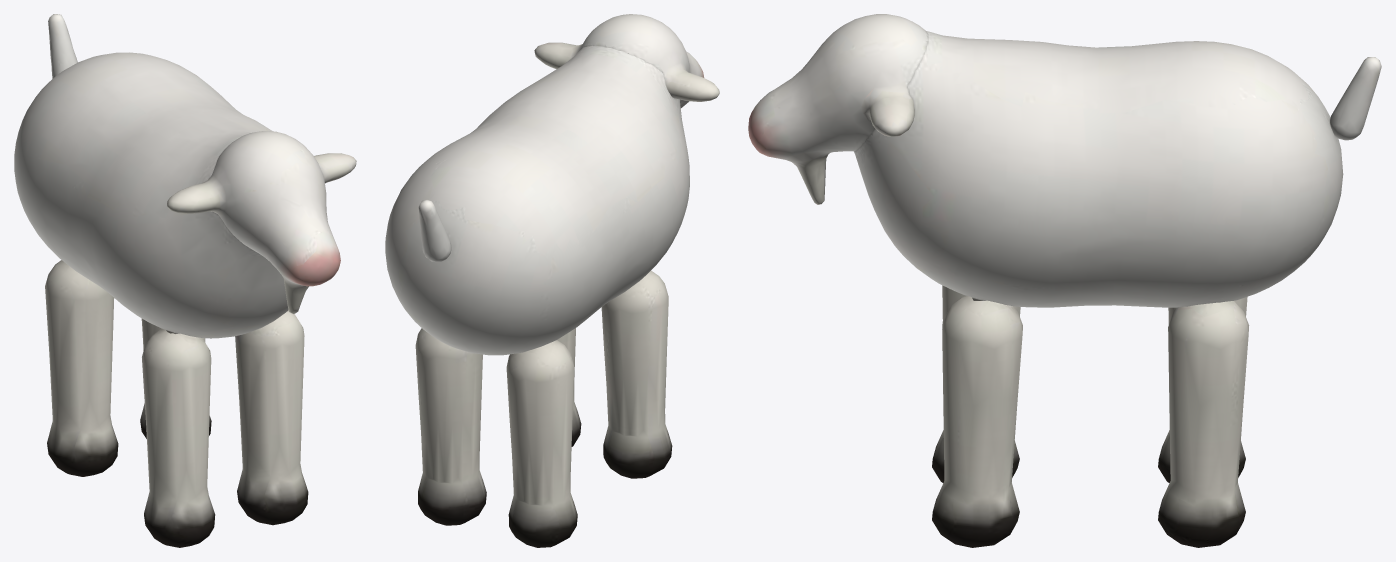
The model's file is animal_saanen_goat.glb.
3 views of the same model, side by side, from view 1: azimuth 30°, elevation 25°; view 2: azimuth 150°, elevation 25°; view 3: azimuth 270°, elevation 25° (orthographic). The views are drawn at different scales.
Visible parts, largest first — view 1: animal_saanen_goat, head, leg0, leg1, leg2, tail, leg3; view 2: animal_saanen_goat, leg2, leg0, leg3, head, tail, leg1; view 3: animal_saanen_goat, leg1, head, leg3, tail, leg0, leg2.
Boxes of the visible parts, x1,y1,x2,y2 form: animal_saanen_goat: (14, 52, 308, 338); head: (167, 131, 356, 313); leg0: (142, 328, 215, 547); leg1: (235, 310, 308, 525); leg2: (45, 260, 118, 476); tail: (48, 14, 77, 78); leg3: (140, 318, 211, 438); animal_saanen_goat: (385, 45, 689, 355); leg2: (506, 340, 577, 547); leg0: (601, 270, 672, 478); leg3: (415, 328, 486, 525); head: (534, 14, 719, 108); tail: (418, 199, 451, 262); leg1: (557, 328, 581, 446); animal_saanen_goat: (854, 31, 1343, 307); leg1: (932, 296, 1022, 547); head: (748, 14, 928, 204); leg3: (1158, 301, 1249, 547); tail: (1330, 57, 1381, 140); leg0: (932, 285, 1020, 482); leg2: (1158, 296, 1247, 482).
Bounding box in the file's own units: 0.2149 × 0.4364 × 0.5044.
Materials: 1 (1 with a texture image).
